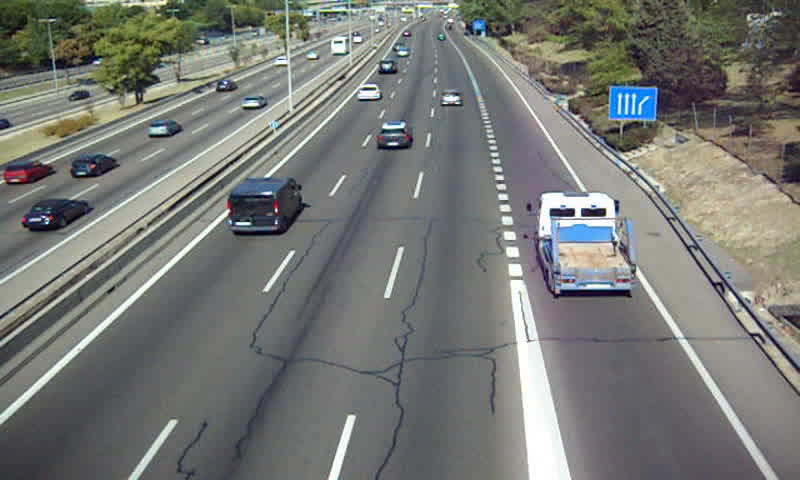car: (377, 121, 410, 150), (440, 88, 464, 108), (356, 83, 382, 100), (377, 59, 396, 75)
small-truck: (536, 190, 636, 294)
van: (227, 177, 301, 234)
